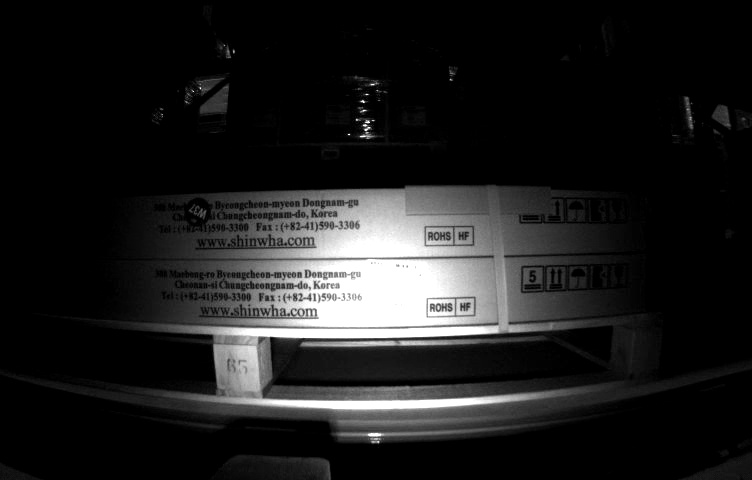True Barcode: (363, 257, 428, 320)
